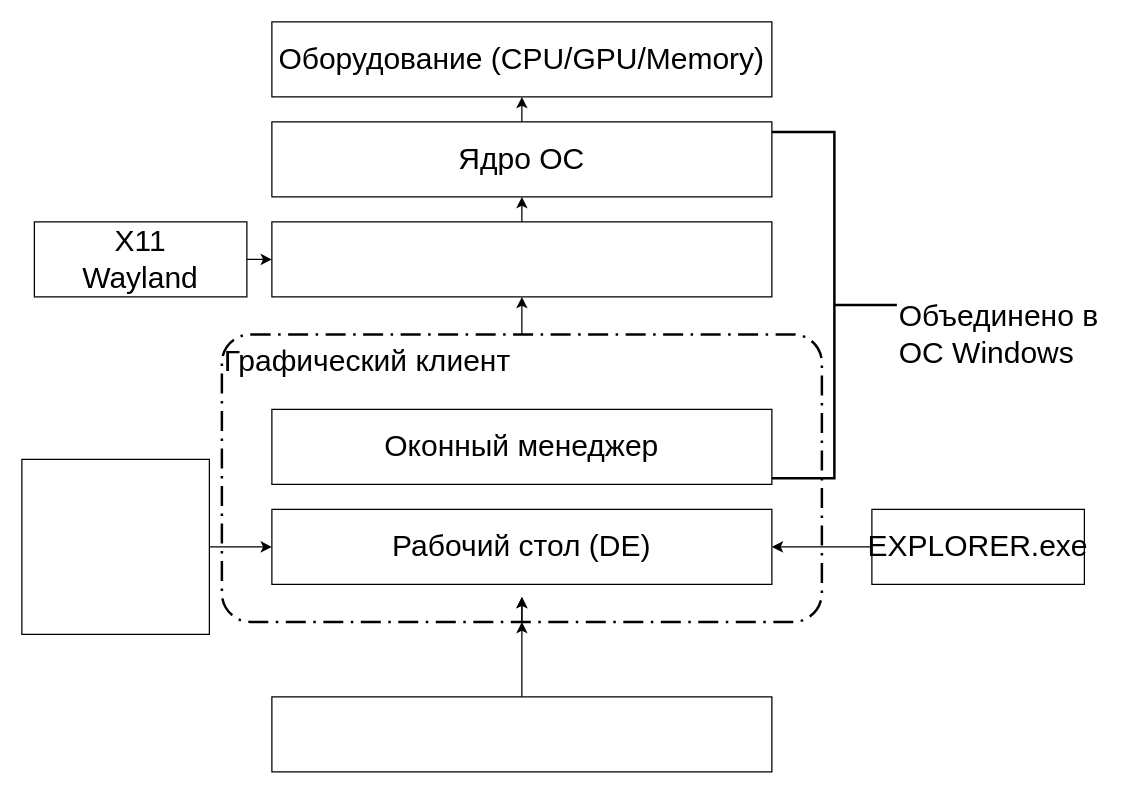
Some shapes in this 1144 by 794 pixel diagram are drawn without their labels. Each missing label, with the centre of its shape:
GTK-based Qt-based Motif-based Another: (x=115, y=546)
Графический сервер: (x=521, y=259)
Пользователь: (x=521, y=734)
